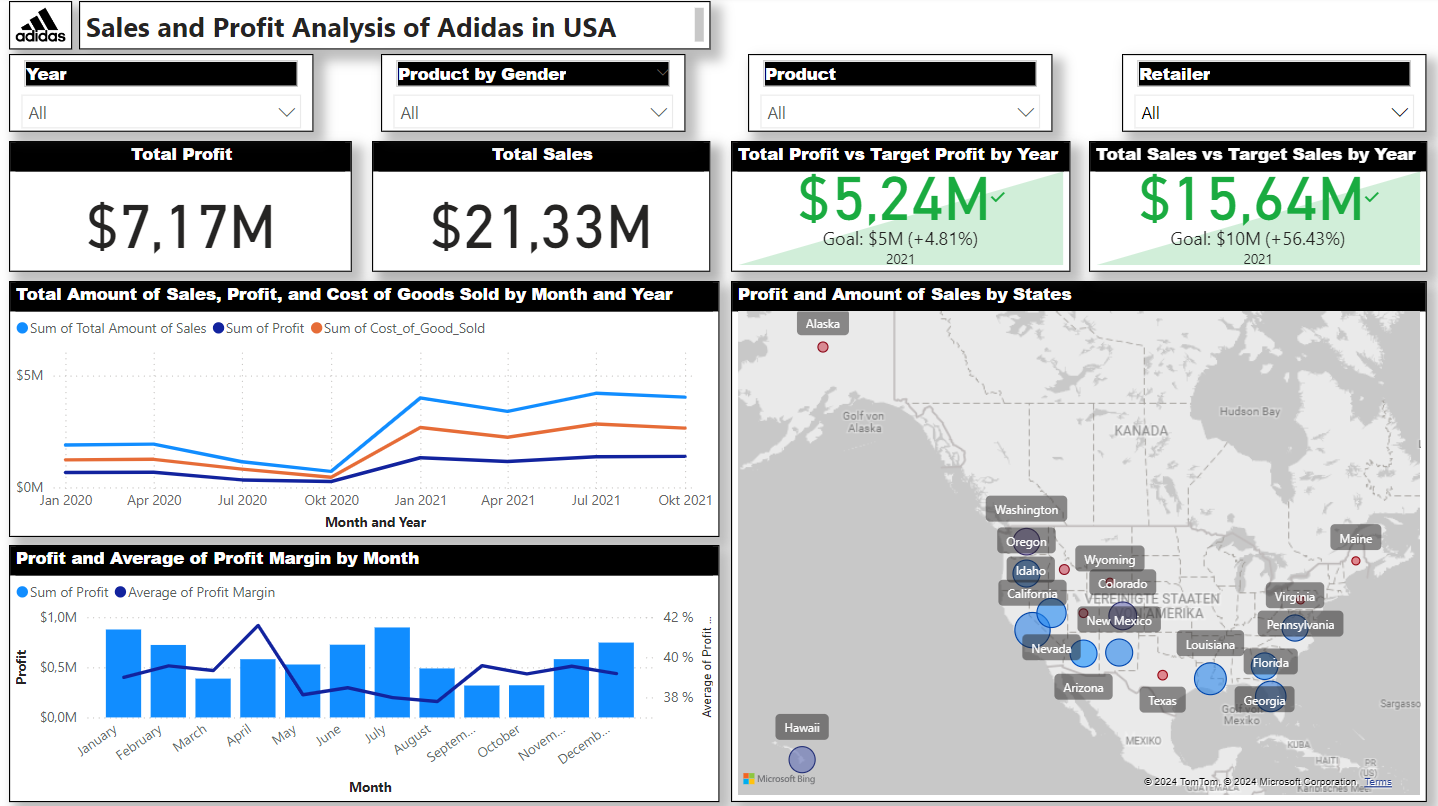

Layout of this report page (visuals, bound fields, positions):
{"tool":"powerbi","page":{"name":"Sales and Profit Analysis","canvas":[1280,720],"ordinal":0},"visuals":[{"type":"image","box":[9.8,3.5,55.9,42.6],"z":0},{"type":"textbox","box":[71.8,3.5,559.5,42.6],"z":1000},{"type":"card","title":"Total Sales","fields":{"Values":["Sum(data_sales (1).Total amount of Sales)"]},"box":[331.6,127.7,299.7,116.2],"z":2000},{"type":"card","title":"Total Profit","fields":{"Values":["Sum(data_sales (1).Profit)"]},"box":[9.8,127.7,304.1,116.2],"z":3000},{"type":"lineChart","title":"Total Amount of Sales, Profit, and Cost of Goods Sold by Month and Year","fields":{"Category":["data_sales (1).Invoice Date.Variation.Date Hierarchy.Year","data_sales (1).Invoice Date.Variation.Date Hierarchy.Quarter","data_sales (1).Invoice Date.Variation.Date Hierarchy.Month","data_sales (1).Invoice Date.Variation.Date Hierarchy.Day"],"Y":["Sum(data_sales (1).Total Amount of Sales)","Sum(data_sales (1).Profit)","Sum(data_sales (1).Cost_of_Good_Sold)"]},"box":[9.8,251.8,630.4,227],"z":4000},{"type":"lineClusteredColumnComboChart","title":"Profit and Average of Profit Margin by Month","fields":{"Category":["data_sales (1).Invoice Date.Variation.Date Hierarchy.Month"],"Y":["Sum(data_sales (1).Profit)"],"Y2":["Avg(data_sales (1).Profit Margin)"]},"box":[9.8,485.9,630.4,227.9],"z":5000},{"type":"slicer","fields":{"Values":["data_sales (1).Invoice Date.Variation.Date Hierarchy.Year"]},"box":[9.8,50.5,270.4,69.2],"z":6000},{"type":"slicer","fields":{"Values":["data_sales (1).Retailer"]},"box":[996.7,50.5,270.4,69.2],"z":7000},{"type":"slicer","fields":{"Values":["data_sales (1).Gender"]},"box":[339.6,50.5,270.4,69.2],"z":8000},{"type":"slicer","fields":{"Values":["data_sales (1).Product"]},"box":[665,50.5,270.4,69.2],"z":9000},{"type":"map","title":"Profit and Amount of Sales by States","fields":{"Category":["data_sales (1).State"],"Size":["Sum(data_sales (1).Profit)"]},"box":[650,251.8,617.1,462],"z":10000},{"type":"kpi","title":"Total Profit vs Target Profit by Year","fields":{"Indicator":["Sum(data_sales (1).Profit)"],"Goal":["data_sales (1).Target Profit by Year"],"TrendLine":["data_sales (1).Invoice Date.Variation.Date Hierarchy.Year"]},"box":[650,127.7,300.6,116.2],"z":11000},{"type":"kpi","title":"Total Sales vs Target Sales by Year","fields":{"Indicator":["Sum(data_sales (1).Total Amount of Sales)"],"Goal":["data_sales (1).Target Sales by Month"],"TrendLine":["data_sales (1).Invoice Date.Variation.Date Hierarchy.Year"]},"box":[967.4,127.7,299.7,116.2],"z":12000}]}

Visuals, with their boxes in screenshot pixels (x1, y1, x2, y2), scaled from the page's 1280x720 canvas onto the 1438x806 screenshot:
image: bbox(11, 4, 74, 52)
textbox: bbox(81, 4, 709, 52)
"Total Sales" card: bbox(373, 143, 709, 273)
"Total Profit" card: bbox(11, 143, 353, 273)
"Total Amount of Sales, Profit, and Cost of Goods Sold by Month and Year" lineChart: bbox(11, 282, 719, 536)
"Profit and Average of Profit Margin by Month" lineClusteredColumnComboChart: bbox(11, 544, 719, 799)
slicer - data_sales (1).Invoice Date.Variation.Date Hierarchy.Year: bbox(11, 57, 315, 134)
slicer - data_sales (1).Retailer: bbox(1120, 57, 1424, 134)
slicer - data_sales (1).Gender: bbox(382, 57, 685, 134)
slicer - data_sales (1).Product: bbox(747, 57, 1051, 134)
"Profit and Amount of Sales by States" map: bbox(730, 282, 1424, 799)
"Total Profit vs Target Profit by Year" kpi: bbox(730, 143, 1068, 273)
"Total Sales vs Target Sales by Year" kpi: bbox(1087, 143, 1424, 273)
